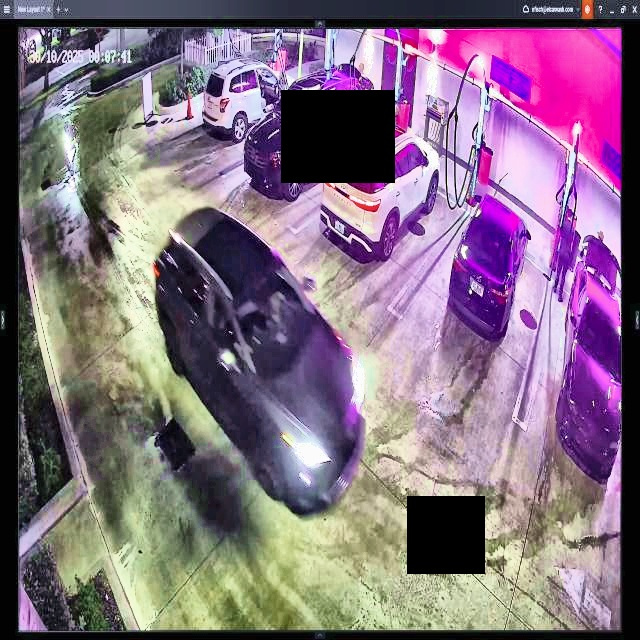Car: (152, 205, 366, 521), (320, 111, 439, 260), (245, 67, 367, 194), (449, 192, 528, 337)
